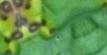Tomato Septoria leaf spot: (5, 0, 102, 55)
